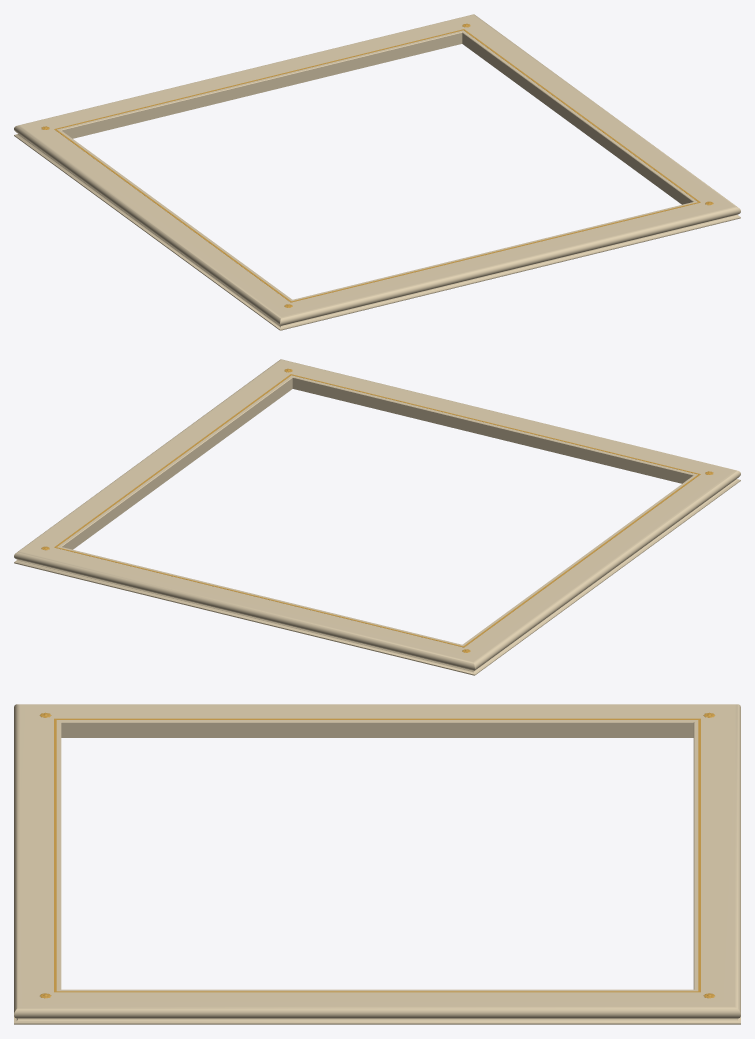
The model's file is board_frame.obj.
The picture shows the model from 3 angles, top to bottom: view 1: azimuth 30°, elevation 25°; view 2: azimuth 150°, elevation 25°; view 3: azimuth 270°, elevation 25°; orthographic projection. The views are drawn at different scales.
Parts seen in each view (by area): view 1: board_frame; view 2: board_frame; view 3: board_frame.
Boxes of the visible parts, <box> form: board_frame: <box>14,14,740,330</box>; board_frame: <box>14,359,740,675</box>; board_frame: <box>14,704,740,1024</box>.
Size of the model in its own units: 9.2 by 0.236 by 9.2.
